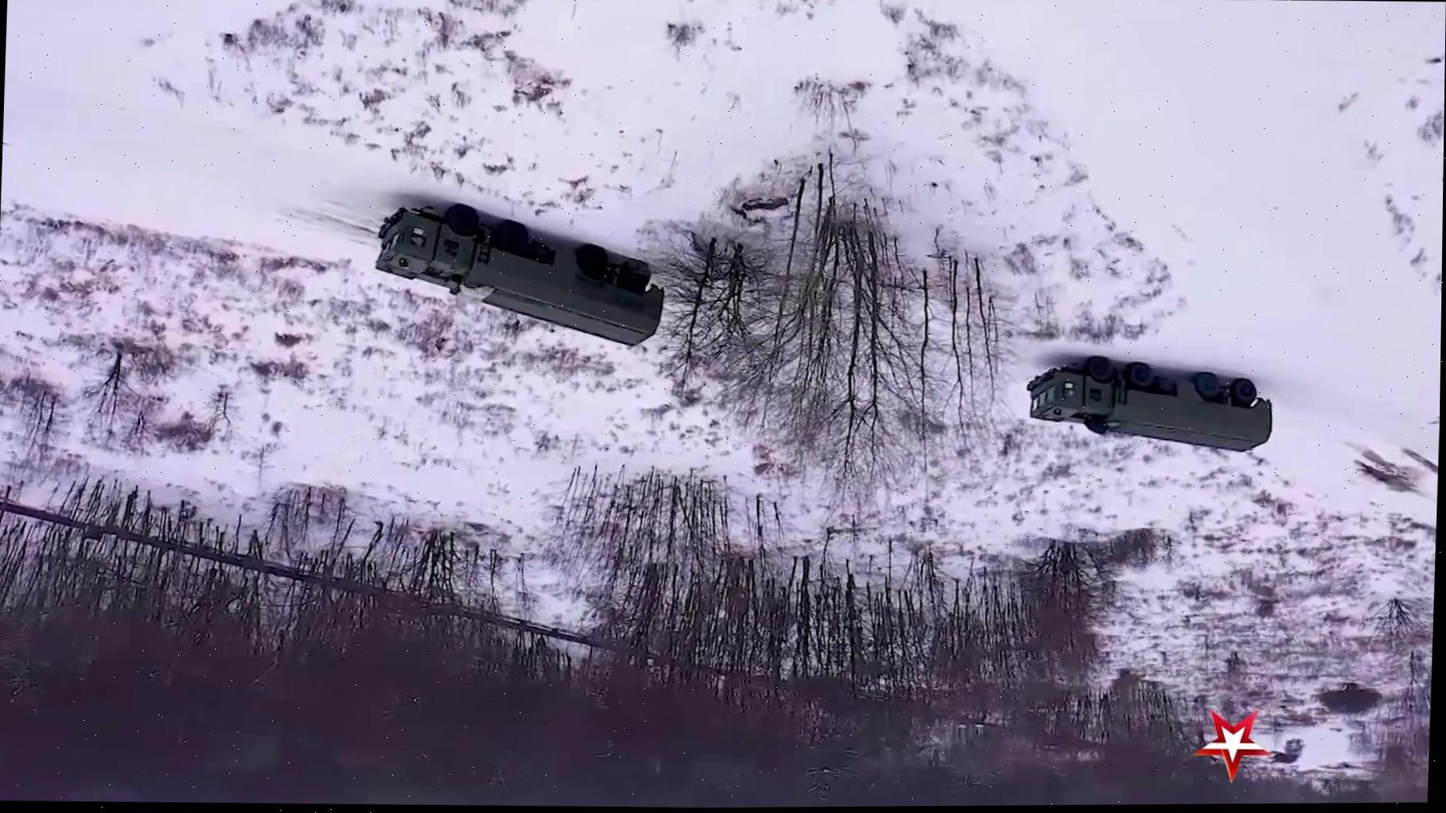rszo: (372, 200, 667, 351), (1023, 352, 1277, 456)
